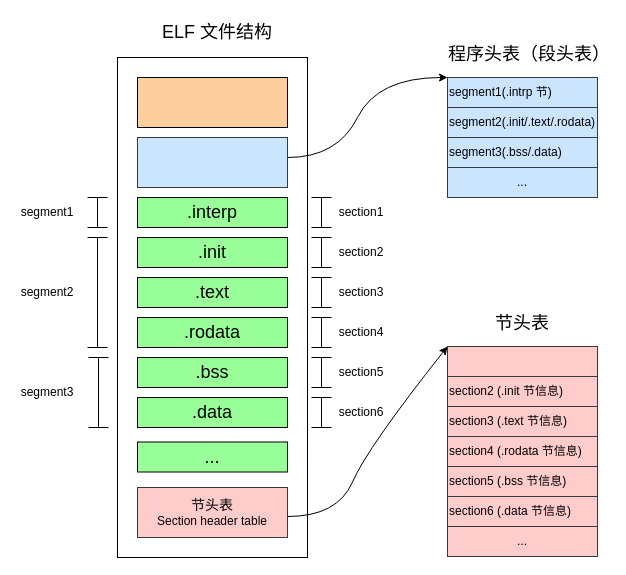
The diagram is 626 pixels wide and 575 high, and some of its shapes have lost their labels. Here are the shapes that lost their labels. From the top down, the box of each, then its label:
(136, 76, 288, 128): ELF 头
(136, 136, 288, 188): 程序头表 Program header table
(446, 346, 598, 376): section1 (.interp 节信息)
